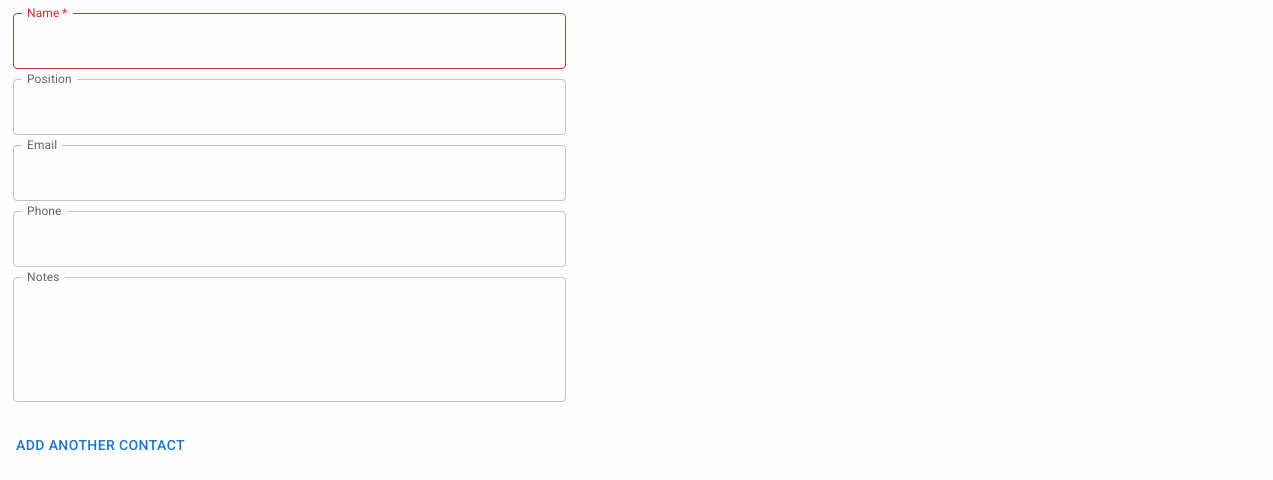
it: ContactsTab › adds another contact form up to a limit of three
Click the button "add another contact" at (100, 445), box [8,427,193,464]
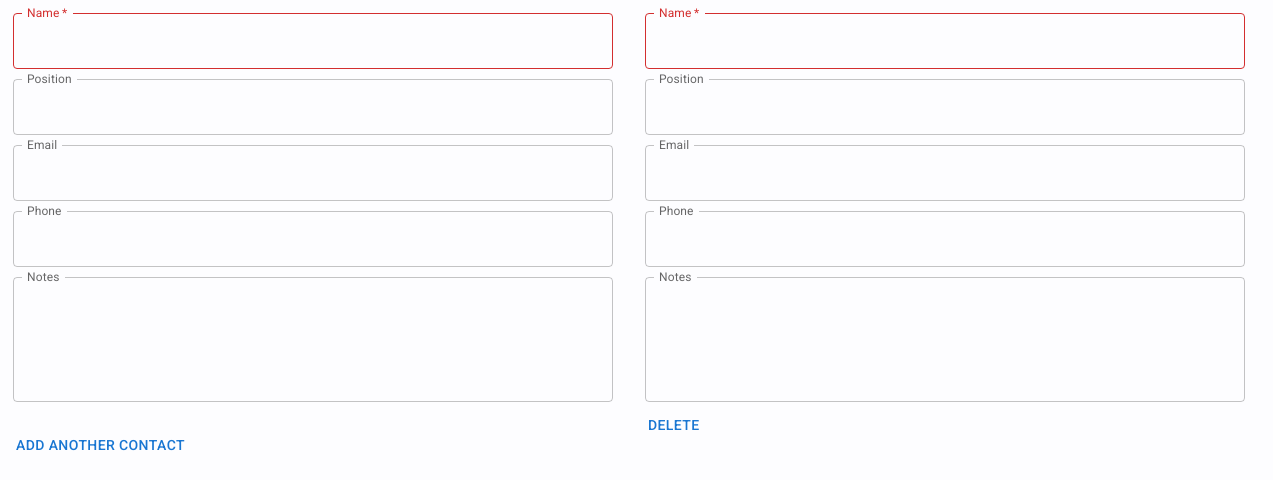
Click the button "add another contact" at (100, 445), box [8,427,193,464]
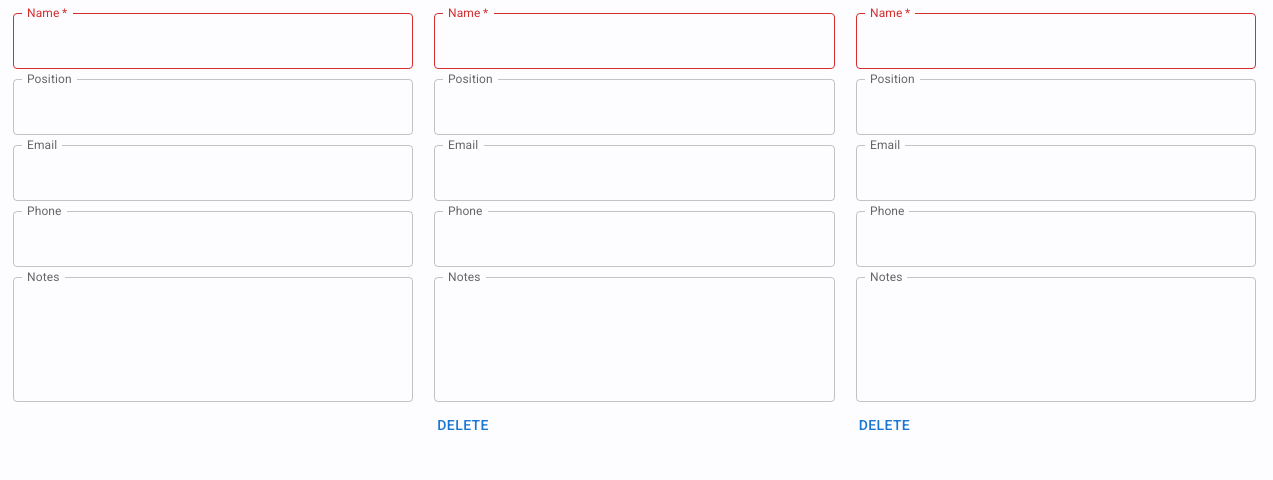
Check: the button "add another contact" is gone
